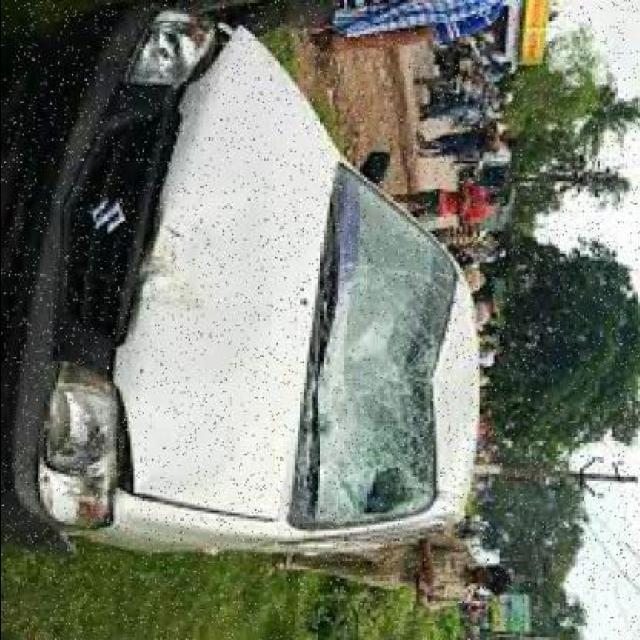Front-Windscreen-Damage: (303, 174, 450, 541)
bonnet-dent: (116, 68, 309, 508)
